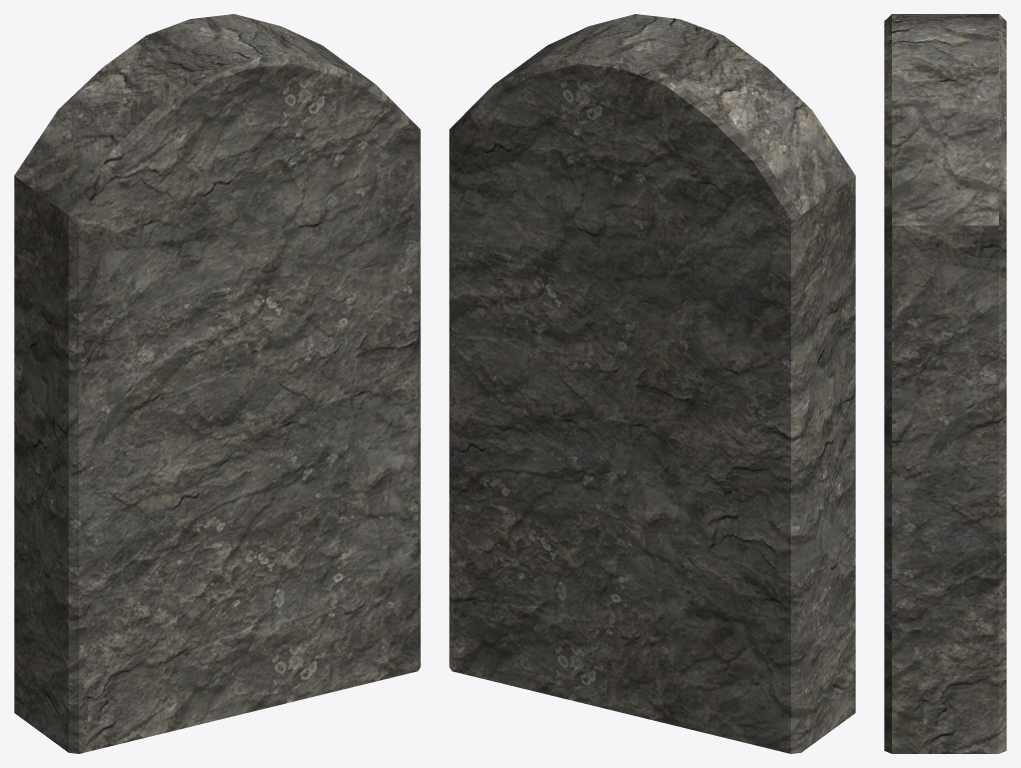
File: Gravestones_Stone_02.fbx
3 views of the same model, side by side, from view 1: azimuth 30°, elevation 25°; view 2: azimuth 150°, elevation 25°; view 3: azimuth 270°, elevation 25° (orthographic).
Visible parts, largest first — view 1: pCube10; view 2: pCube10; view 3: pCube10.
Part boxes in pixels (x1,y1,x2,y2): pCube10: (14, 14, 420, 753); pCube10: (449, 14, 855, 753); pCube10: (884, 14, 1006, 753).
Size of the model in its own units: 0.5686 by 1 by 0.1737.
